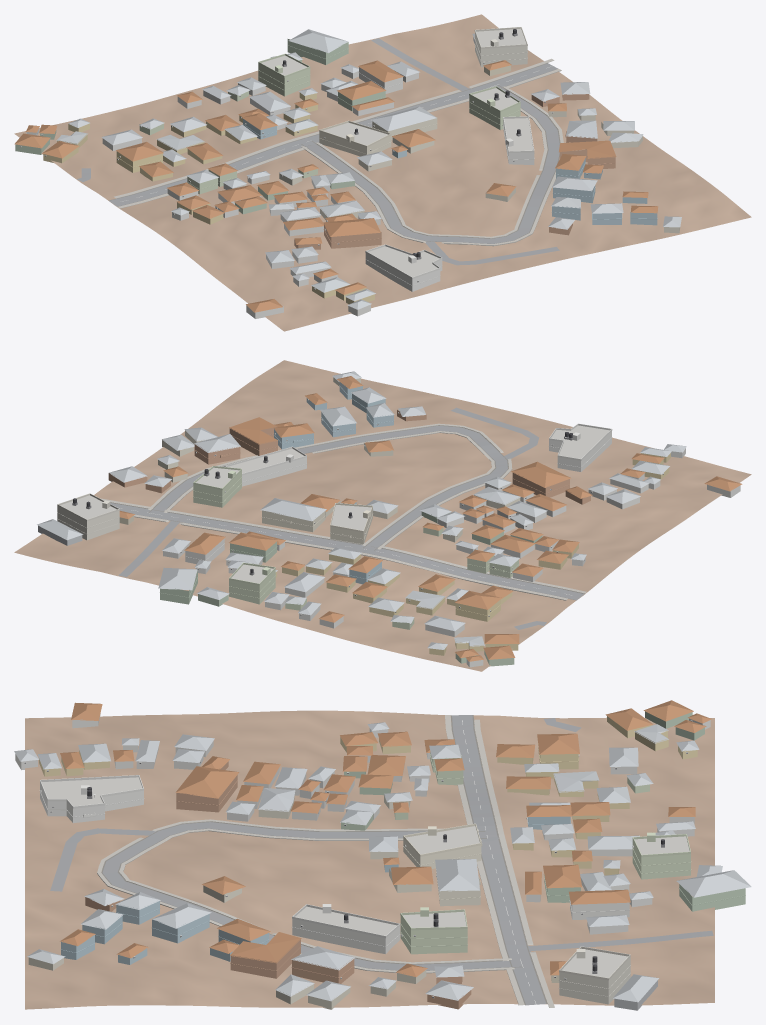
The picture shows the model from 3 angles, top to bottom: view 1: azimuth 30°, elevation 25°; view 2: azimuth 150°, elevation 25°; view 3: azimuth 270°, elevation 25°; orthographic projection. The views are drawn at different scales.
Parts seen in each view (by area): view 1: Terrain-col, Buildings-col, Roads-col, Sidewalks-col, Details; view 2: Terrain-col, Buildings-col, Roads-col, Sidewalks-col, Details; view 3: Terrain-col, Buildings-col, Roads-col, Sidewalks-col, Details.
Part boxes in pixels (<box>): Terrain-col: <box>14,14,751,331</box>; Buildings-col: <box>14,28,681,318</box>; Roads-col: <box>77,38,560,265</box>; Sidewalks-col: <box>114,58,563,246</box>; Details: <box>19,27,657,289</box>; Terrain-col: <box>14,360,751,671</box>; Buildings-col: <box>37,371,742,667</box>; Roads-col: <box>110,407,584,629</box>; Sidewalks-col: <box>100,423,586,600</box>; Details: <box>57,385,663,644</box>; Terrain-col: <box>25,710,714,1009</box>; Buildings-col: <box>14,700,751,1010</box>; Roads-col: <box>50,715,713,1005</box>; Sidewalks-col: <box>97,715,554,1007</box>; Details: <box>24,720,745,998</box>.
Size of the model in its own units: 269 by 16.4 by 274.
